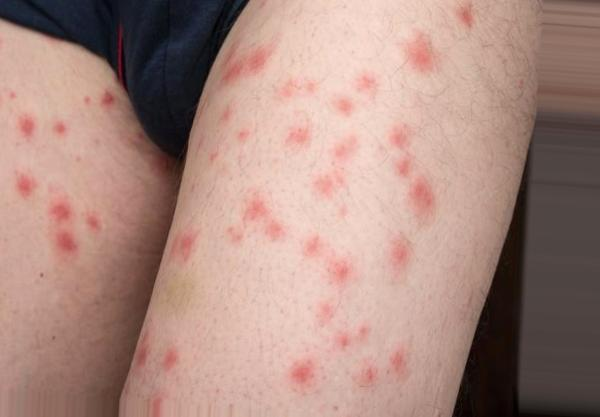Fleas: (234, 193, 288, 250), (399, 33, 442, 79), (309, 163, 350, 202), (406, 176, 438, 224), (324, 131, 362, 169), (150, 341, 189, 378), (326, 323, 372, 352), (217, 53, 247, 88), (322, 252, 353, 284), (170, 228, 196, 264), (386, 122, 414, 155), (8, 170, 38, 199), (288, 359, 314, 392), (281, 124, 313, 150), (454, 3, 479, 33), (387, 344, 409, 378), (387, 235, 408, 270), (354, 69, 381, 96), (12, 112, 38, 139), (48, 200, 73, 228), (245, 48, 266, 76), (54, 231, 78, 255), (300, 234, 324, 257), (393, 157, 414, 180), (48, 117, 70, 138), (215, 103, 234, 127), (335, 95, 356, 116), (231, 123, 250, 145), (147, 394, 165, 417), (136, 339, 150, 367), (361, 364, 378, 385), (101, 89, 118, 109), (281, 78, 298, 97), (317, 301, 334, 320), (86, 211, 100, 233), (223, 41, 235, 66)
